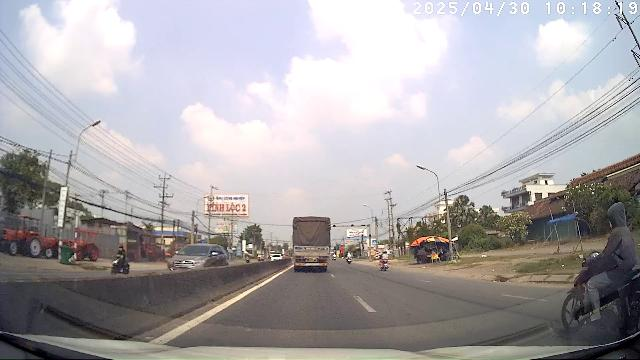423a-duong-nguoi-di-bo-sang-ngang-1: (373, 240, 377, 244)
